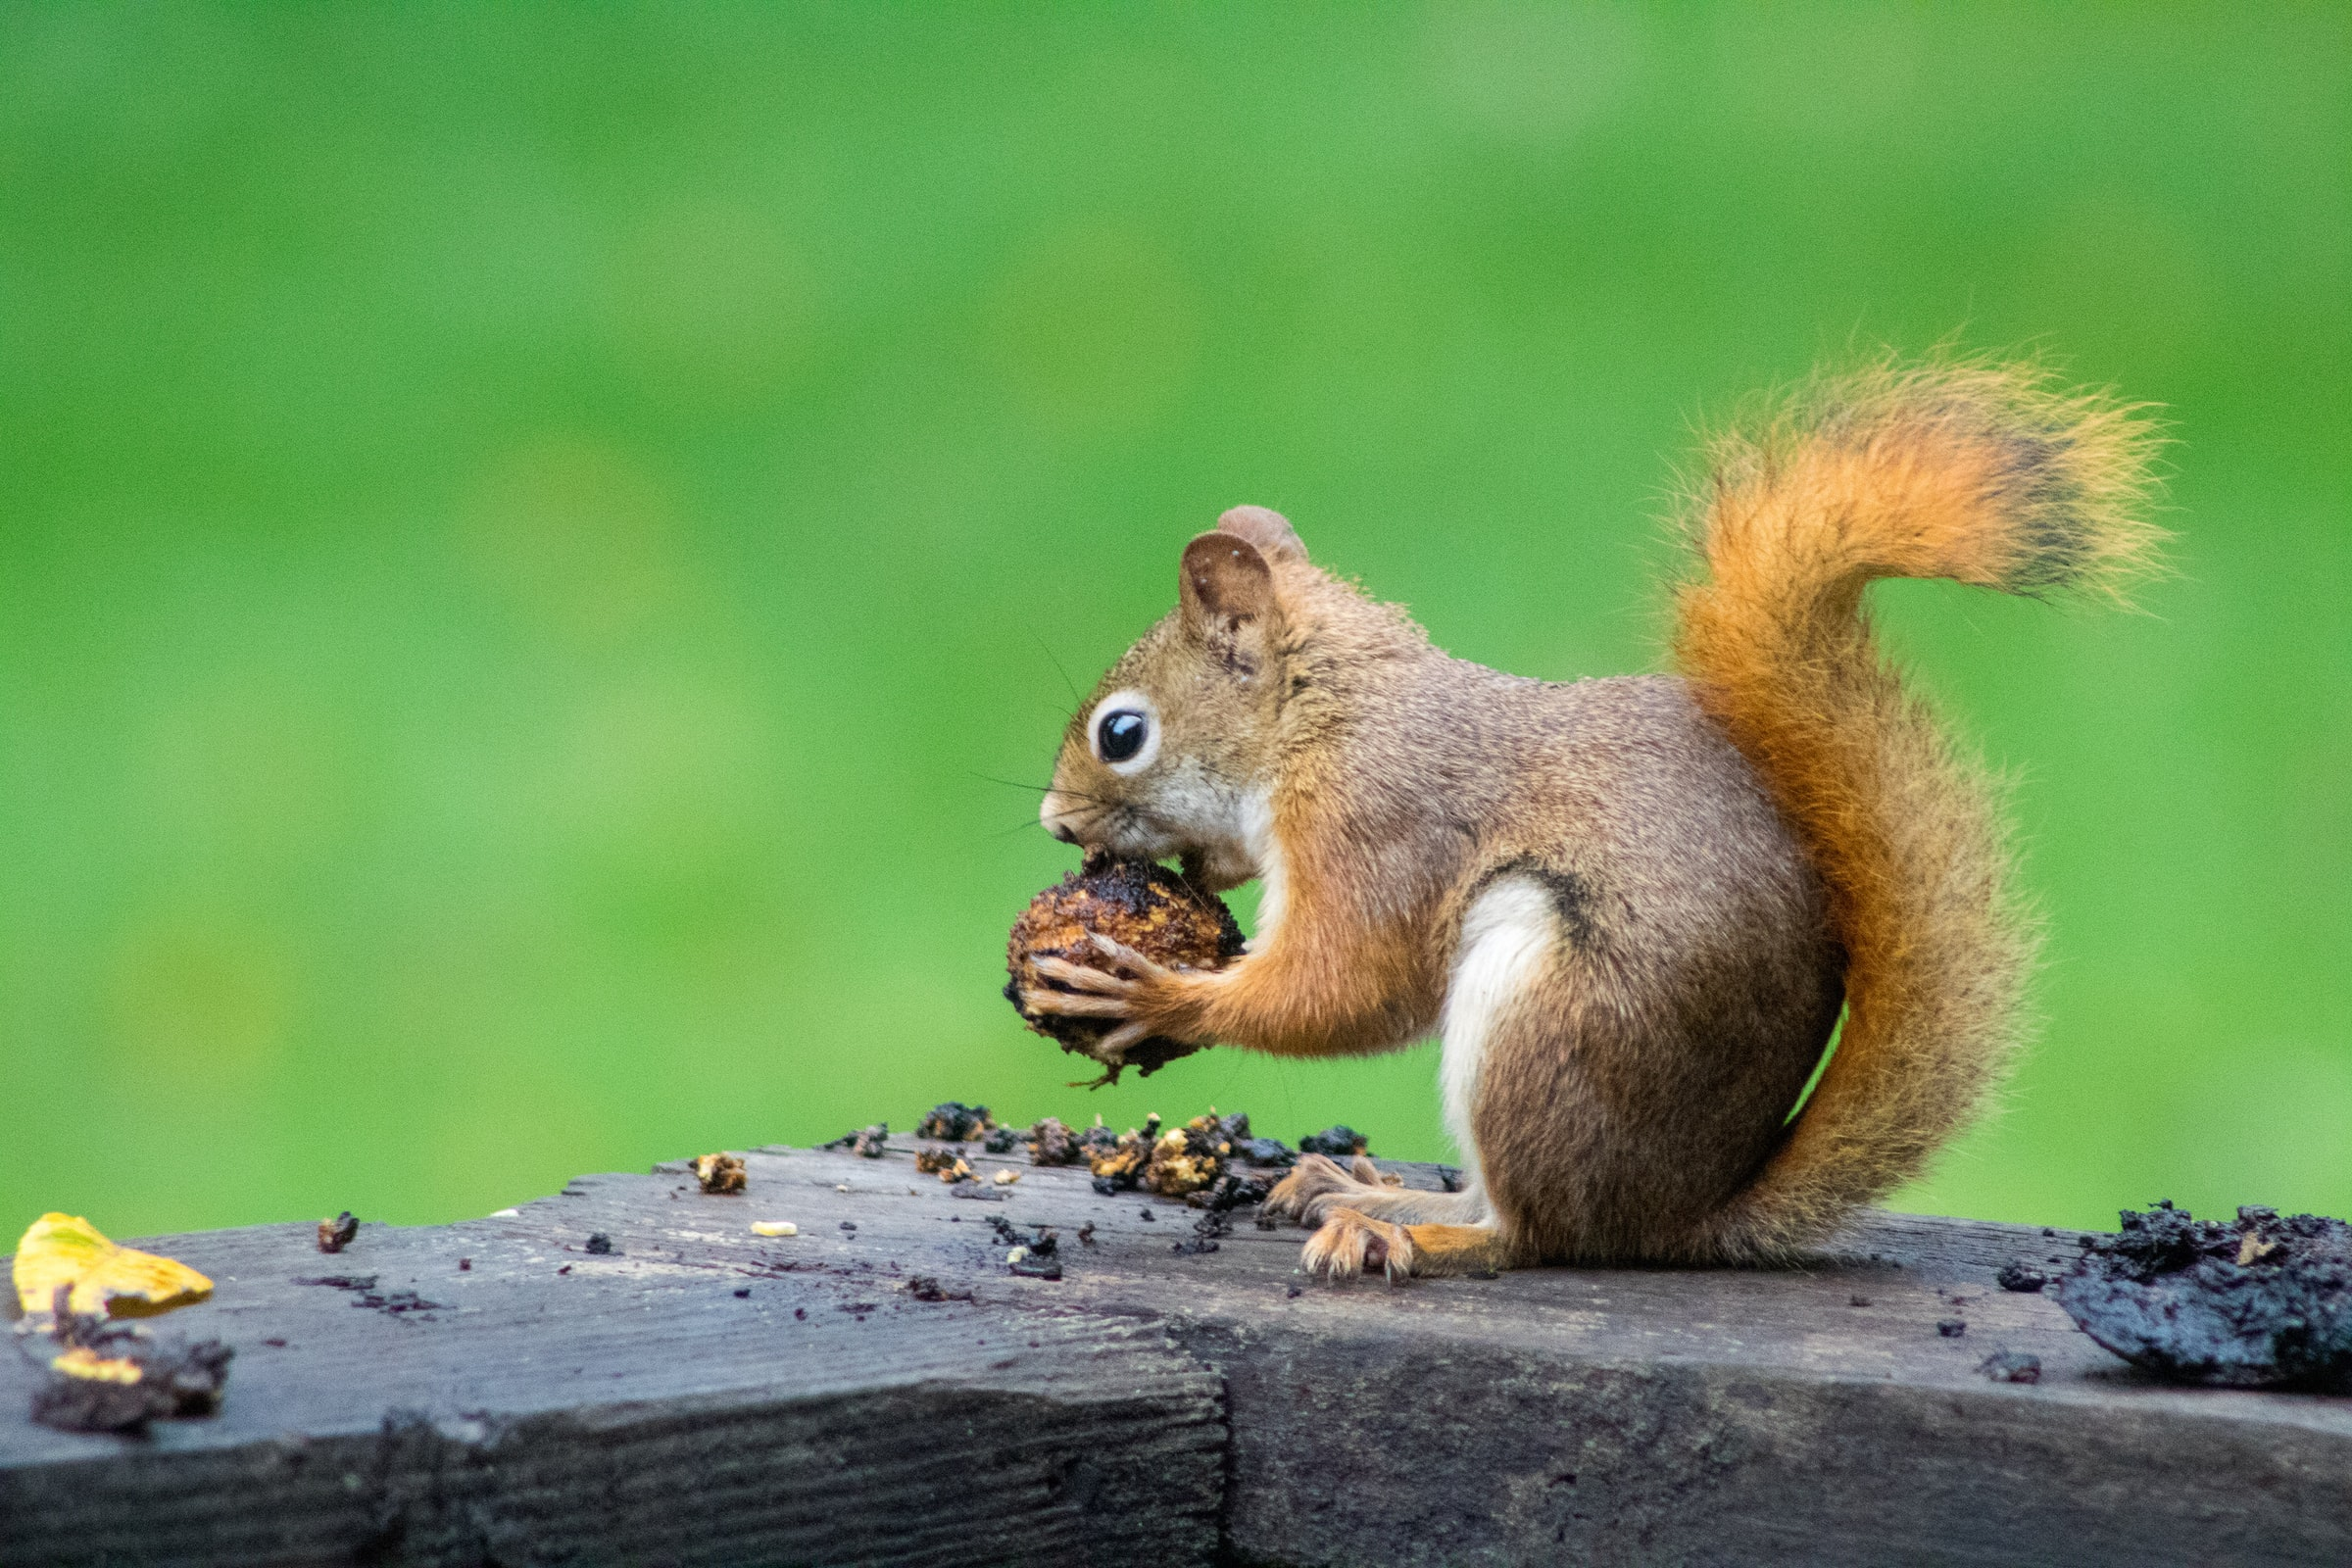squirrel: (996, 378, 2086, 1281)
